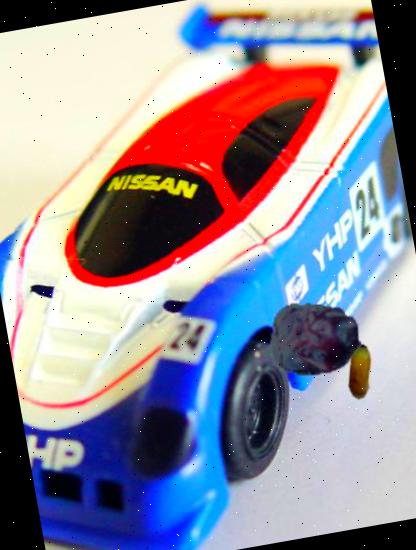Banana: (328, 338, 392, 404)
Dates: (261, 285, 368, 392)
